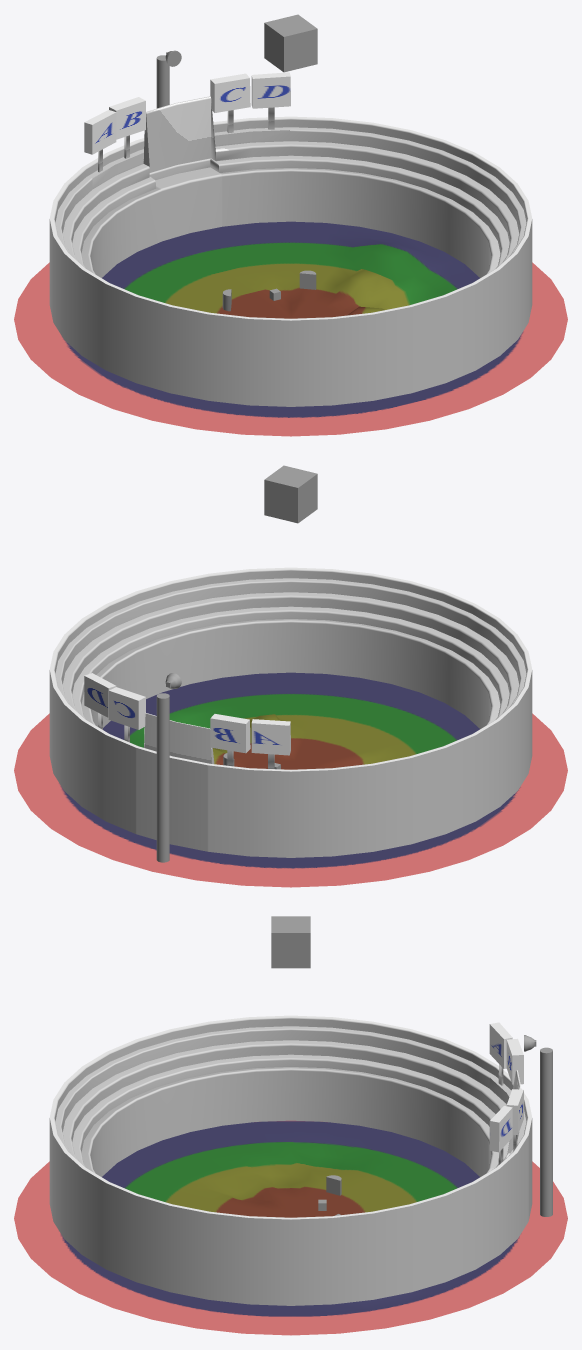
Rendered from stage1221.fbx.
3 views of the same model, one above another, from view 1: azimuth 30°, elevation 25°; view 2: azimuth 150°, elevation 25°; view 3: azimuth 270°, elevation 25° (orthographic).
Parts seen in each view (by area): view 1: Audience_seats, Dome_inside, pCube1, pCylinder1; view 2: Audience_seats, Dome_inside, pCube1, pCylinder1; view 3: Audience_seats, Dome_inside, pCylinder1, pCube1.
Part boxes in pixels (x1,y1,x2,y2): Audience_seats: [49, 72, 532, 406]; Dome_inside: [14, 221, 567, 436]; pCube1: [264, 14, 317, 72]; pCylinder1: [156, 55, 169, 108]; Audience_seats: [49, 567, 532, 857]; Dome_inside: [14, 672, 567, 887]; pCube1: [264, 465, 317, 523]; pCylinder1: [156, 693, 169, 862]; Audience_seats: [49, 1015, 532, 1305]; Dome_inside: [14, 1120, 567, 1335]; pCylinder1: [540, 1047, 552, 1216]; pCube1: [271, 916, 310, 968].
Size of the model in its own units: 66.18 by 41.48 by 66.18.
